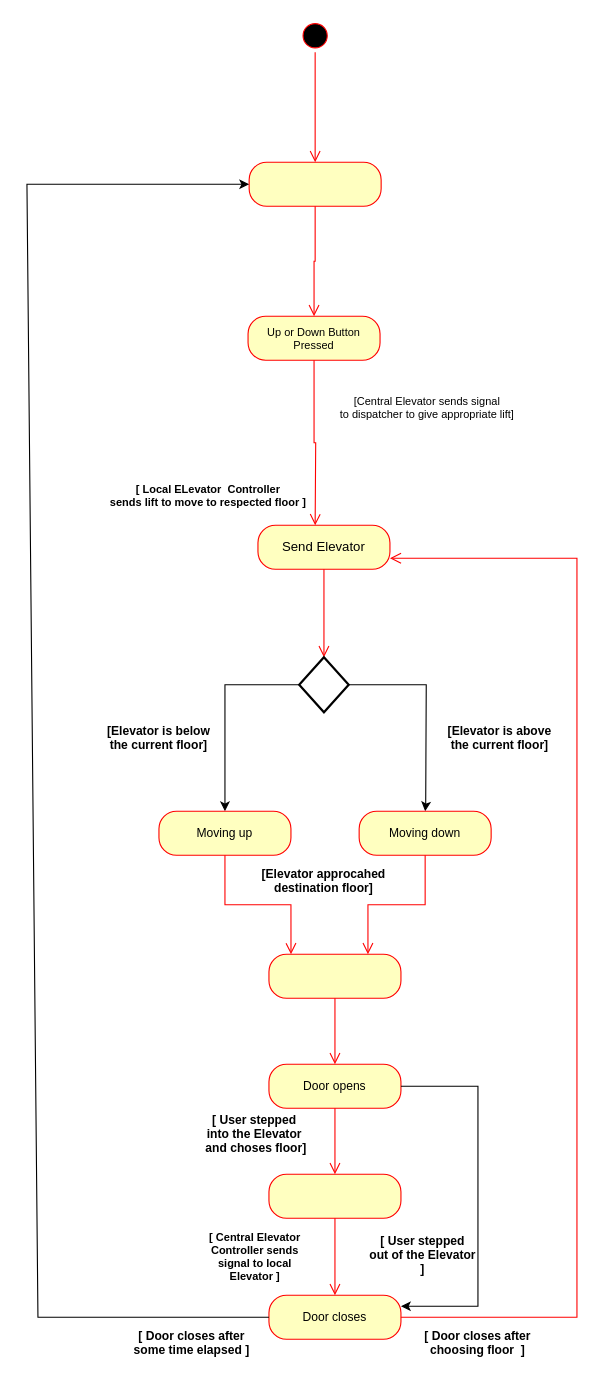
Some shapes in this 607 by 1376 pixel diagram are drawn without their labels. Here are the shapes that lost their labels. From the top down, the centre of each, then its label:
At (314,183): "Idle".
At (334,975): "Stopping lift".
At (334,1195): "Button pressed".
